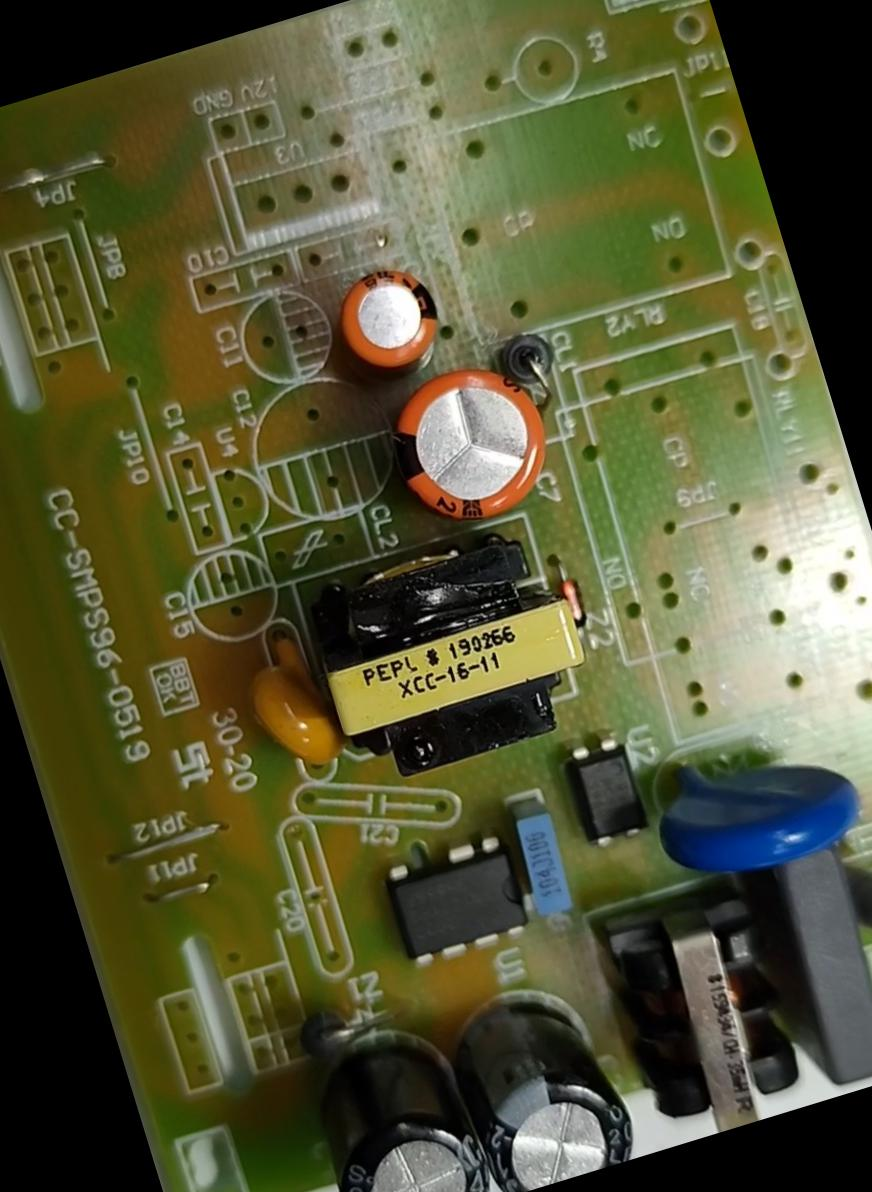Cap1: (366, 346, 576, 554)
Cap2: (314, 248, 458, 391)
Cap3: (427, 961, 649, 1191)
Cap4: (288, 1013, 502, 1191)
MOSFET: (364, 817, 546, 984)
Mov: (613, 708, 871, 910)
Resistor: (823, 839, 871, 969)
Transformer: (268, 492, 614, 809), (572, 856, 831, 1154)
